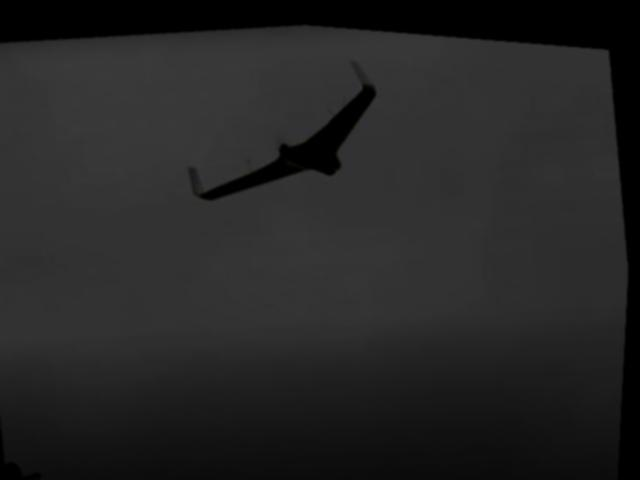iha: (170, 36, 395, 216)
